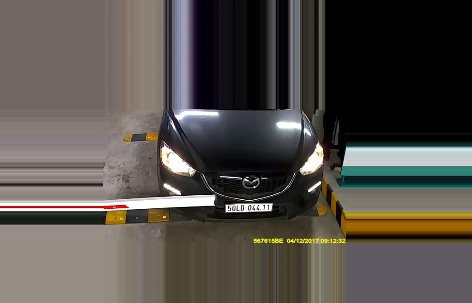plate: (223, 199, 273, 212)
